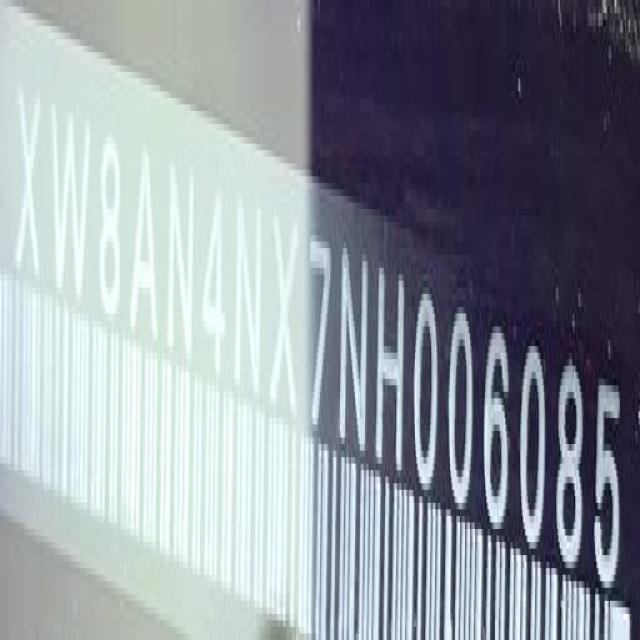0: (448, 300, 476, 518), (521, 337, 548, 560), (414, 282, 440, 496)
4: (204, 180, 229, 387)
5: (595, 370, 623, 602)
6: (482, 321, 511, 535)
7: (305, 226, 333, 444)
8: (555, 358, 583, 578), (99, 129, 124, 324)
A: (131, 145, 160, 350)
H: (377, 266, 408, 480)
N: (231, 193, 263, 404), (341, 240, 370, 458), (168, 161, 196, 372)
W: (48, 99, 90, 312)
X: (272, 208, 302, 424), (17, 80, 44, 287)
